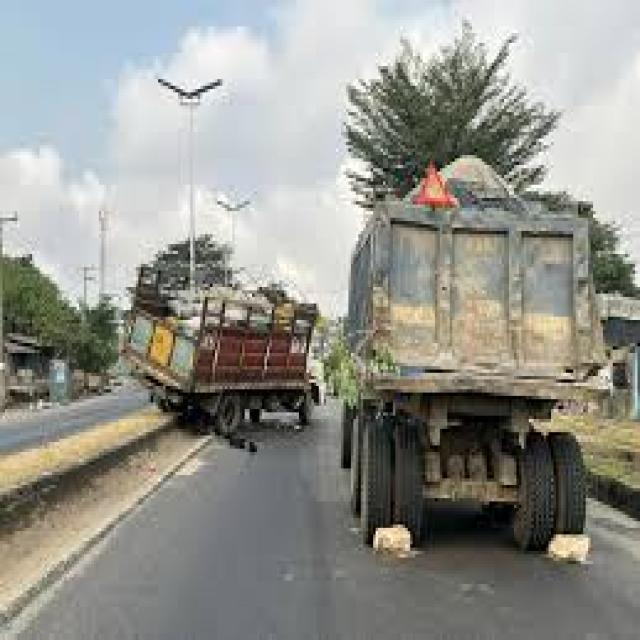uncovered: (354, 167, 596, 568), (137, 265, 316, 438)
